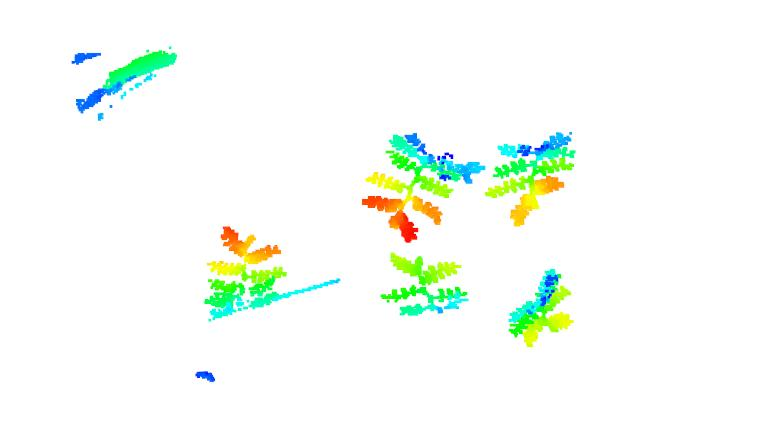chickpea: (361, 131, 485, 244), (481, 127, 578, 227), (202, 223, 289, 320), (377, 251, 470, 318), (505, 267, 577, 349)
